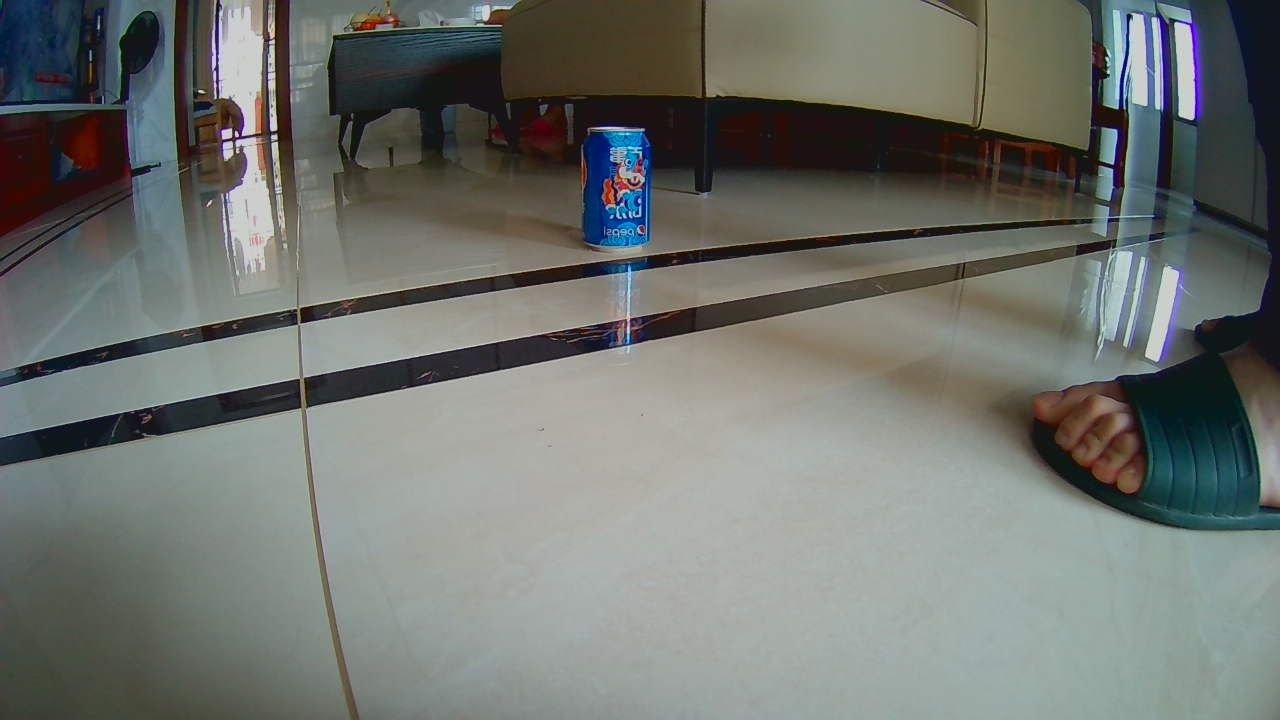pessi: (581, 125, 647, 248)
